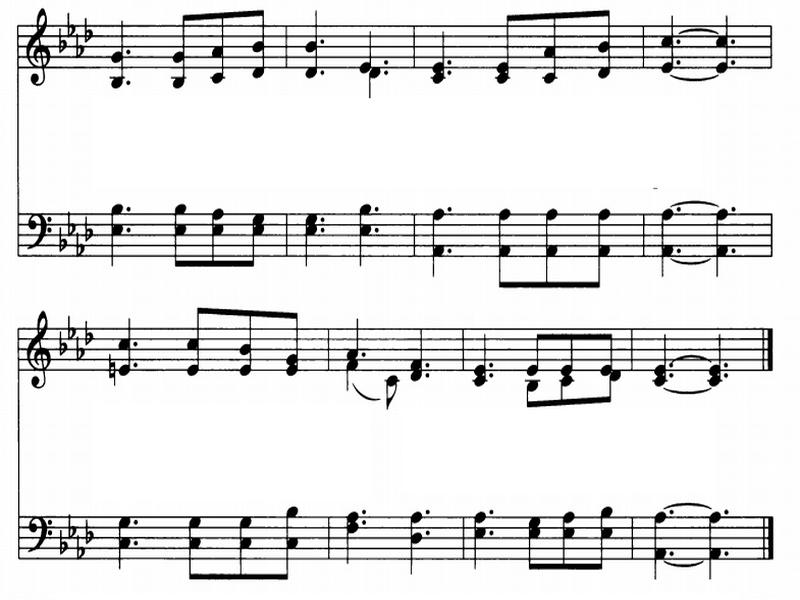Bem: (53, 229, 72, 255), (63, 205, 81, 232), (82, 12, 97, 43), (84, 516, 99, 544), (54, 334, 72, 357), (75, 535, 89, 563), (48, 30, 67, 49), (71, 341, 88, 361), (57, 532, 70, 557), (69, 310, 81, 336), (67, 511, 81, 533), (75, 239, 88, 260), (83, 319, 93, 343), (84, 211, 92, 237), (64, 12, 72, 36), (76, 37, 83, 61)
C: (268, 504, 316, 589), (181, 485, 217, 584), (174, 298, 215, 384), (585, 1, 623, 83), (486, 12, 524, 89), (232, 201, 272, 274), (161, 6, 193, 97), (217, 516, 255, 585), (161, 196, 194, 273), (536, 201, 562, 297), (202, 1, 231, 86), (493, 207, 521, 294), (593, 205, 619, 297), (537, 5, 565, 88), (590, 497, 619, 574), (552, 507, 583, 575), (202, 202, 230, 274), (230, 303, 256, 380), (523, 500, 547, 574), (247, 1, 269, 80), (520, 330, 547, 377), (280, 308, 298, 377), (589, 326, 613, 375), (551, 374, 580, 414), (375, 374, 405, 410), (557, 328, 581, 371), (605, 369, 623, 410), (513, 383, 544, 406)
CF: (22, 503, 56, 567), (18, 208, 55, 264)
CS: (18, 4, 54, 96), (18, 307, 54, 394)
N: (343, 281, 371, 358), (642, 507, 666, 585), (426, 3, 445, 89), (300, 3, 320, 84), (349, 15, 376, 73), (111, 494, 130, 572), (297, 204, 317, 278), (106, 12, 125, 88), (340, 504, 359, 580), (402, 506, 422, 578), (709, 196, 725, 284), (660, 1, 678, 78), (469, 500, 487, 574), (107, 187, 123, 269), (651, 324, 671, 388), (408, 319, 427, 386), (701, 506, 718, 579), (706, 319, 724, 386), (712, 5, 728, 79), (117, 309, 133, 381), (656, 196, 670, 277), (473, 323, 489, 388), (338, 356, 357, 396), (368, 62, 380, 94)
P: (727, 240, 745, 260), (128, 533, 145, 553), (317, 61, 337, 78), (674, 201, 692, 219), (358, 344, 376, 361), (128, 514, 145, 531), (421, 504, 438, 521), (725, 501, 738, 522), (668, 504, 684, 521), (721, 548, 737, 565), (443, 65, 459, 81), (129, 358, 144, 374), (667, 547, 683, 562), (487, 358, 502, 374), (424, 527, 442, 540), (422, 370, 440, 383), (318, 36, 337, 48), (728, 201, 741, 218), (125, 73, 137, 91), (125, 200, 137, 218), (357, 509, 375, 521), (667, 370, 682, 384), (485, 374, 502, 386), (446, 243, 459, 258), (383, 55, 396, 70), (671, 35, 687, 47), (125, 45, 138, 59), (360, 519, 375, 531), (131, 336, 141, 353), (443, 57, 460, 67), (726, 52, 739, 65), (445, 203, 457, 217), (373, 203, 385, 217), (126, 224, 137, 239), (722, 369, 733, 384), (665, 360, 677, 372), (486, 522, 496, 536), (676, 245, 686, 257), (373, 224, 383, 236), (317, 214, 329, 224), (488, 506, 496, 519), (730, 34, 738, 47), (381, 69, 394, 77), (380, 53, 386, 70), (720, 361, 732, 369), (672, 58, 686, 64), (317, 227, 328, 234), (734, 36, 738, 52), (426, 362, 430, 373)
SOS: (103, 356, 118, 385)
